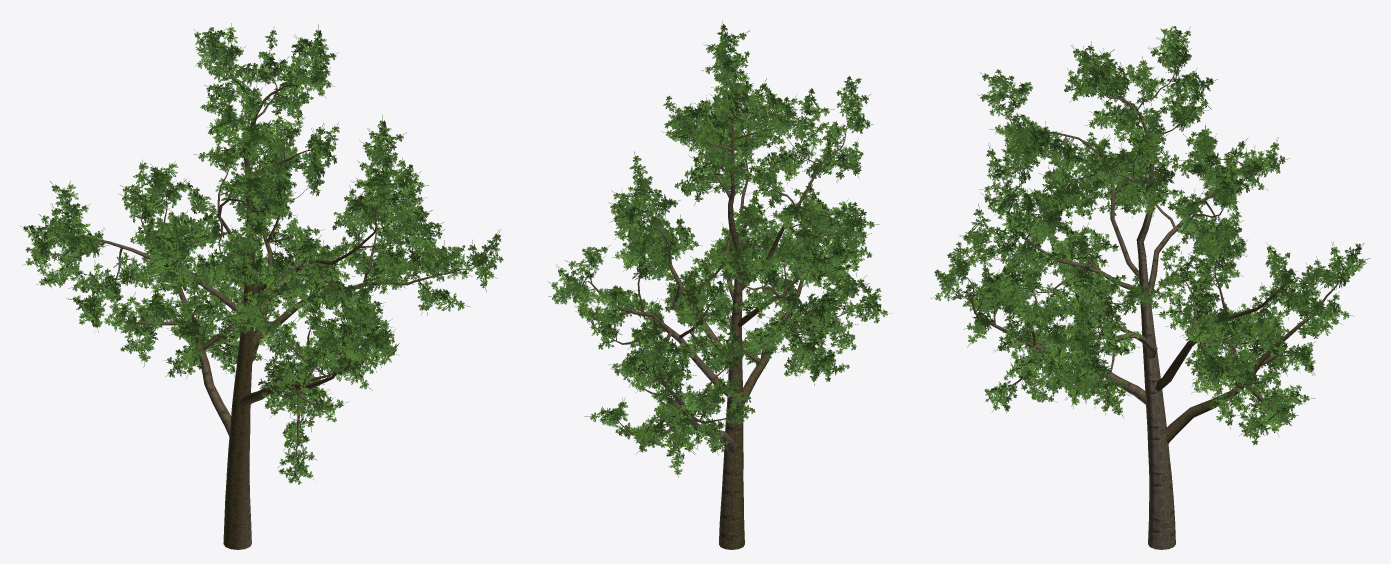
The model's file is tree_hero_custom.glb.
3 views of the same model, side by side, from view 1: azimuth 30°, elevation 25°; view 2: azimuth 150°, elevation 25°; view 3: azimuth 270°, elevation 25° (orthographic). The views are drawn at different scales.
Visible parts, largest first — view 1: Leaves, Branches; view 2: Leaves, Branches; view 3: Leaves, Branches.
Boxes of the visible parts, <box> form: Leaves: <box>19,23,503,484</box>; Branches: <box>38,40,489,549</box>; Leaves: <box>548,21,892,477</box>; Branches: <box>572,48,874,549</box>; Leaves: <box>930,26,1369,444</box>; Branches: <box>949,43,1345,549</box>.
Bounding box in the file's own units: 12.62 × 16.5 × 12.82.
2 materials, 2 textured.
